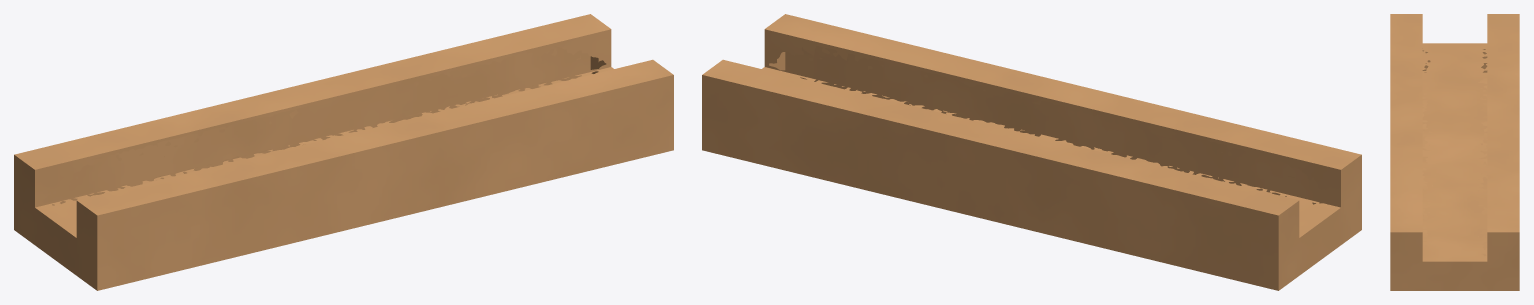
The picture shows the model from 3 angles, left to right: view 1: azimuth 30°, elevation 25°; view 2: azimuth 150°, elevation 25°; view 3: azimuth 270°, elevation 25°; orthographic projection. The views are drawn at different scales.
Visible parts, largest first — view 1: ss22-open-sandstone-drain; view 2: ss22-open-sandstone-drain; view 3: ss22-open-sandstone-drain.
Boxes of the visible parts, x1,y1,x2,y2 form: ss22-open-sandstone-drain: (14, 14, 673, 290); ss22-open-sandstone-drain: (702, 14, 1361, 290); ss22-open-sandstone-drain: (1390, 14, 1519, 290).
Size of the model in its own units: 200 by 25 by 50.
